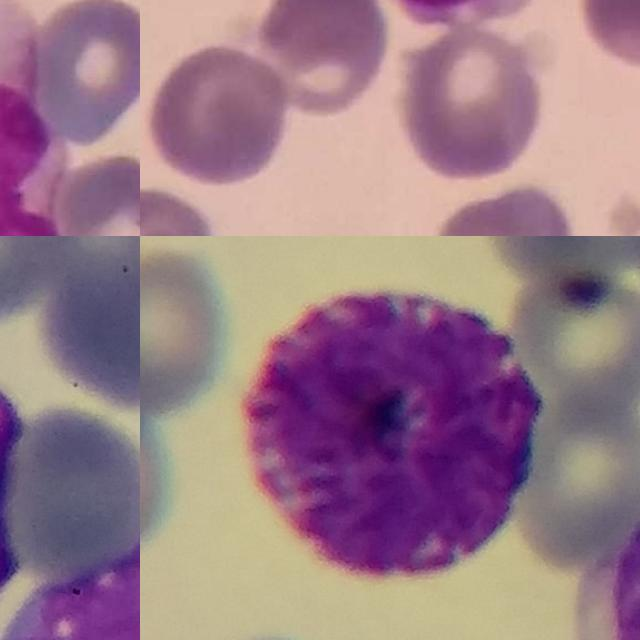Basophil: (245, 286, 546, 581)
Monocyte: (0, 0, 79, 236), (0, 510, 140, 640), (570, 494, 640, 640)
